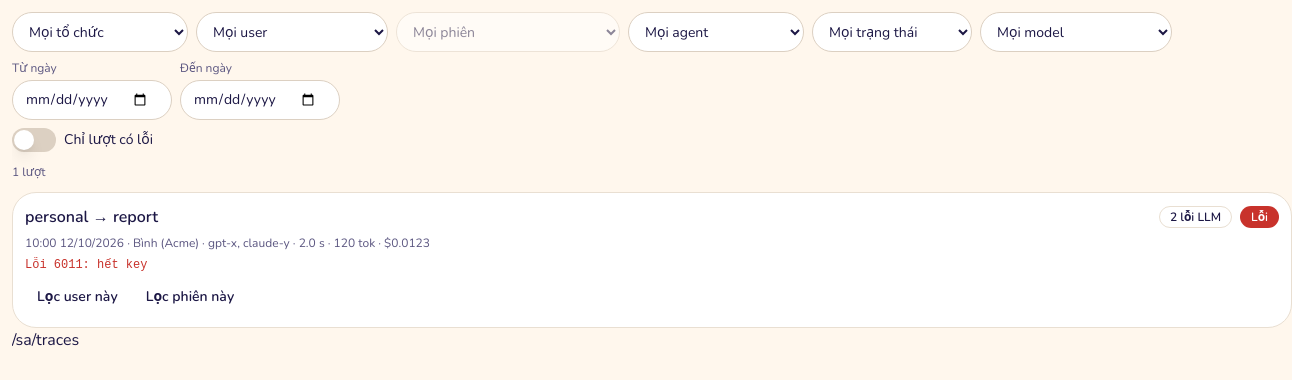
Test case: TracesPage › lọc theo tổ chức + lượt hiện tên tổ chức cạnh user (D22)
The image size is (1292, 380).
Expected: the list item with test id "trace-r2" shows "Bình (Acme)", [12,192,1291,328]
Select "Acme" in the dropdown with test id "trace-tenant" at (100, 32), box [12,12,188,52]
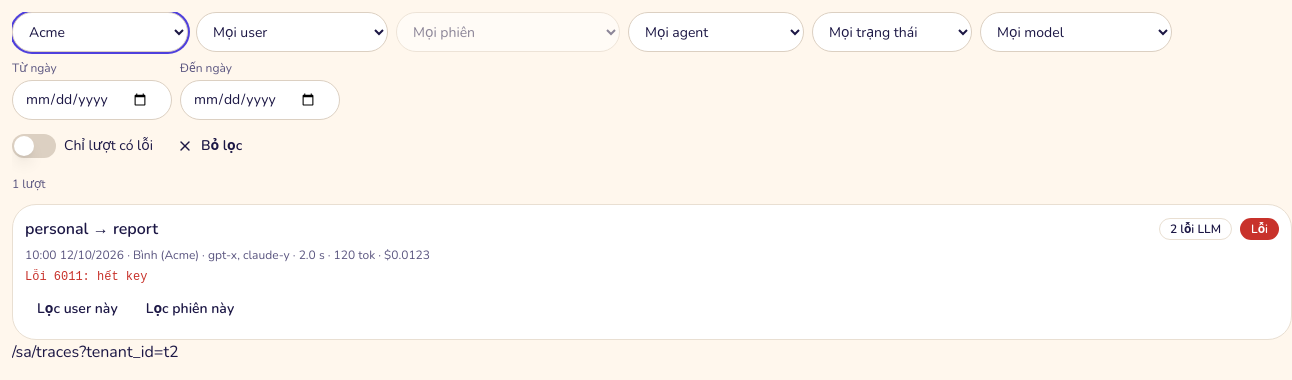
Expected: the text with test id "where" shows "tenant_id=t2", [12,341,179,363]
